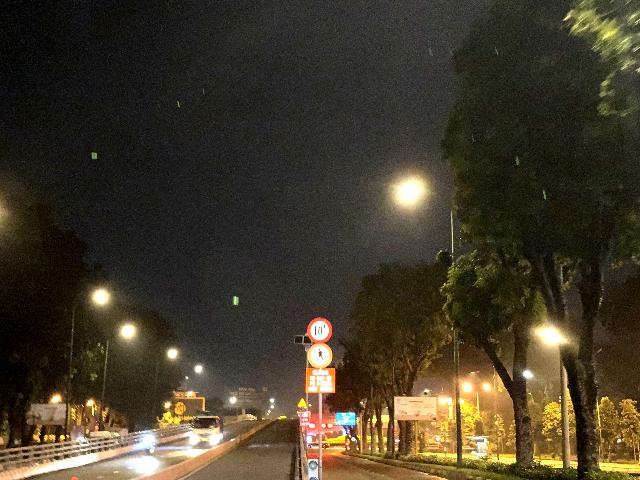cam-nguoi-di-bo: (308, 343, 333, 368)
han-che-trong-luong-xe: (307, 317, 333, 343)
